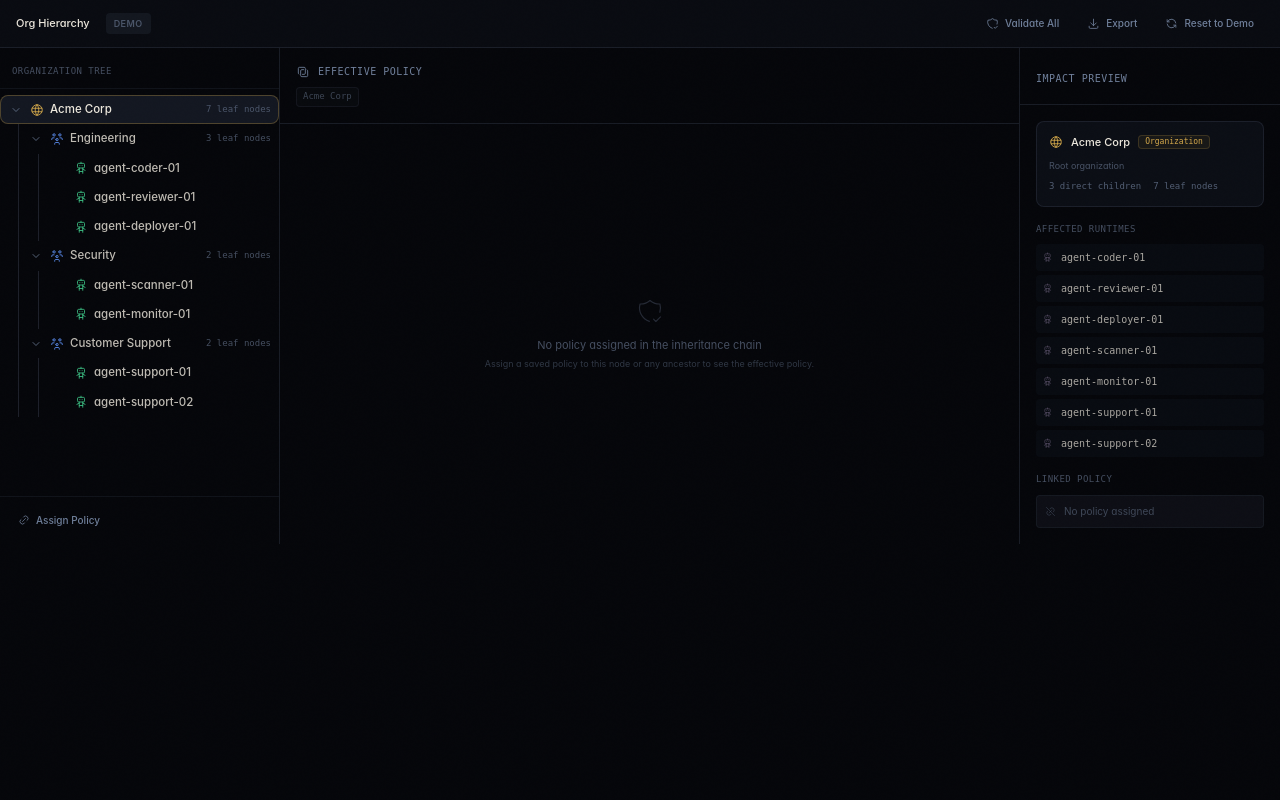
Test case: HierarchyPage › deduplicates duplicate child ids from a live hierarchy pull without React key warnings
This screenshot has width=1280, height=800.
Click the button "DEMO".
click(128, 24)  # box [106, 13, 151, 34]
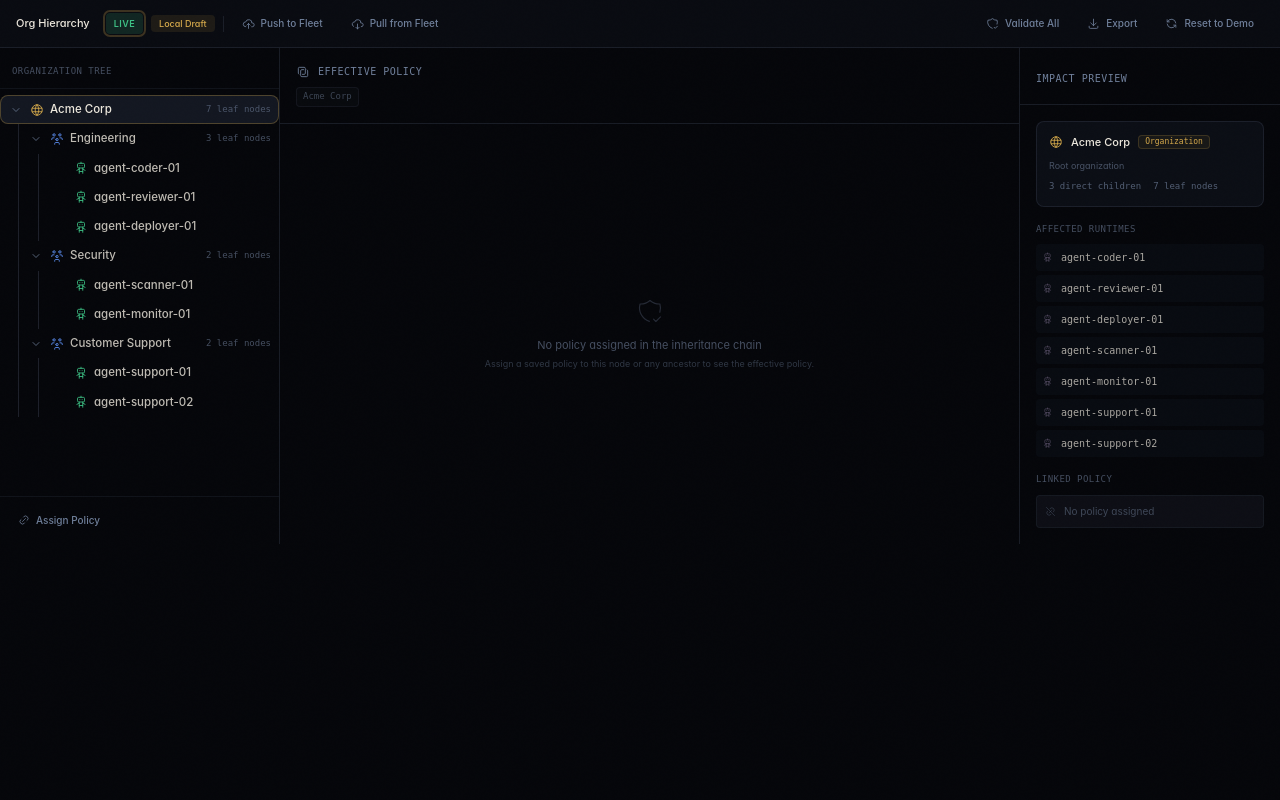
Click the button "Pull from Fleet".
click(394, 24)  # box [341, 10, 448, 37]
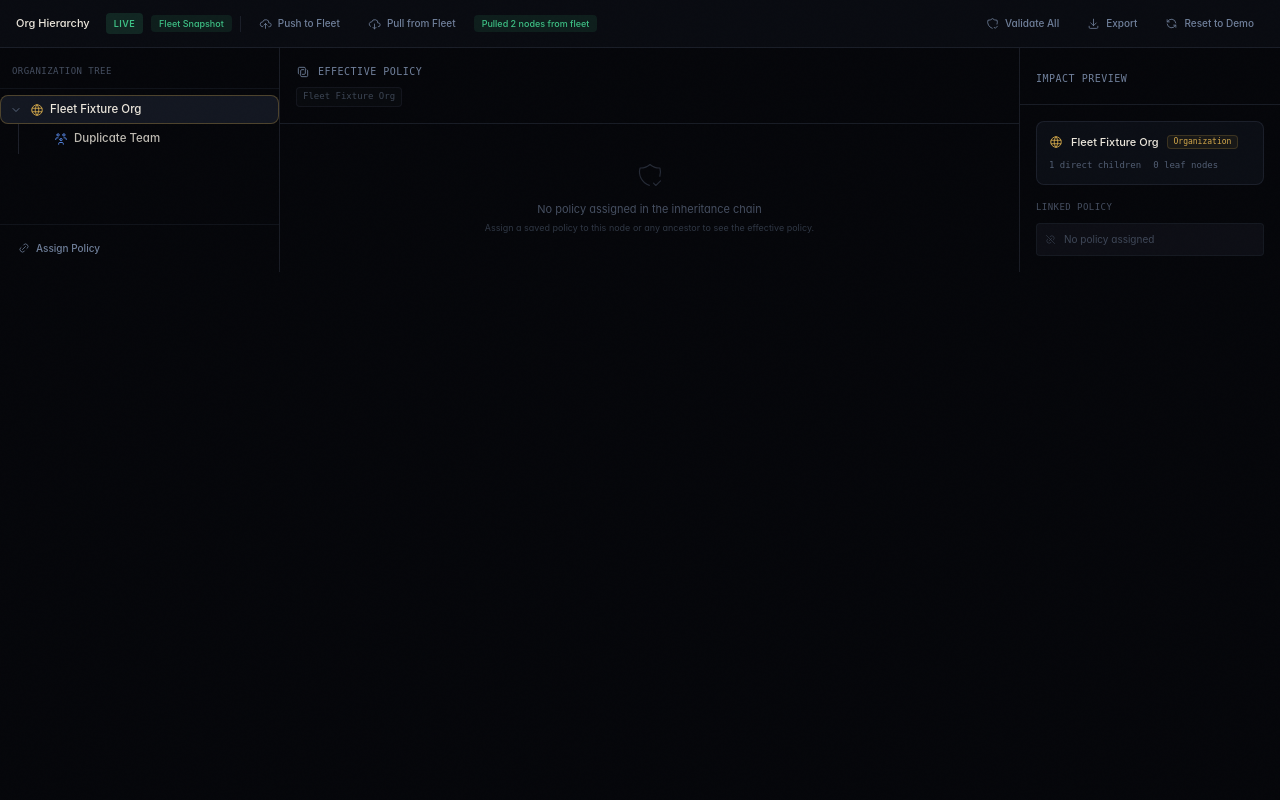
Result: the text "Fleet Snapshot" is shown at [151, 15, 232, 32]
